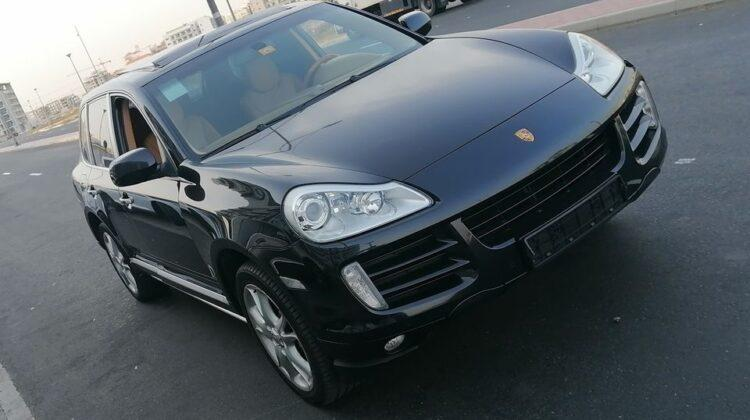porsche: (510, 122, 543, 149)
